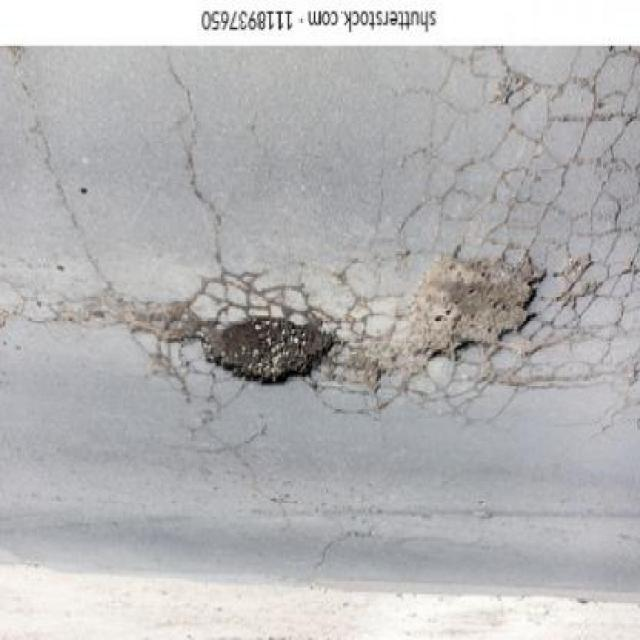Pothole: (397, 247, 547, 369), (196, 304, 348, 390)
